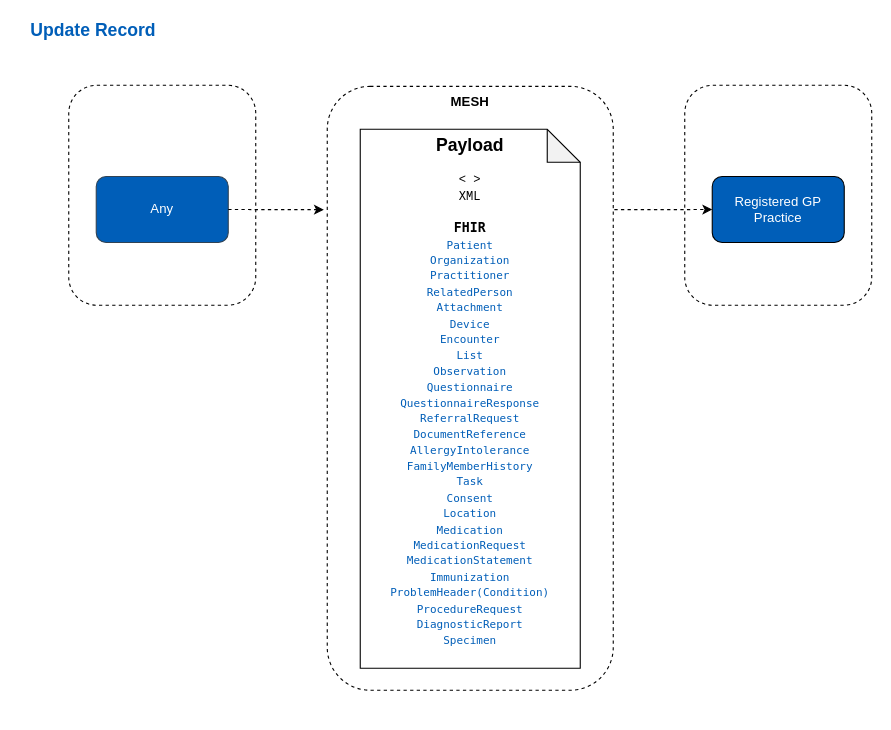
The diagram is 891 pixels wide and 730 high, and some of its shapes have lost their labels. The shapes that lost their labels are listed below. From the top down, each one's box as (x1, y1, x2, y2) in pixels, then its label:
(68, 84, 256, 305): Sender
(684, 84, 872, 305): Receiver
